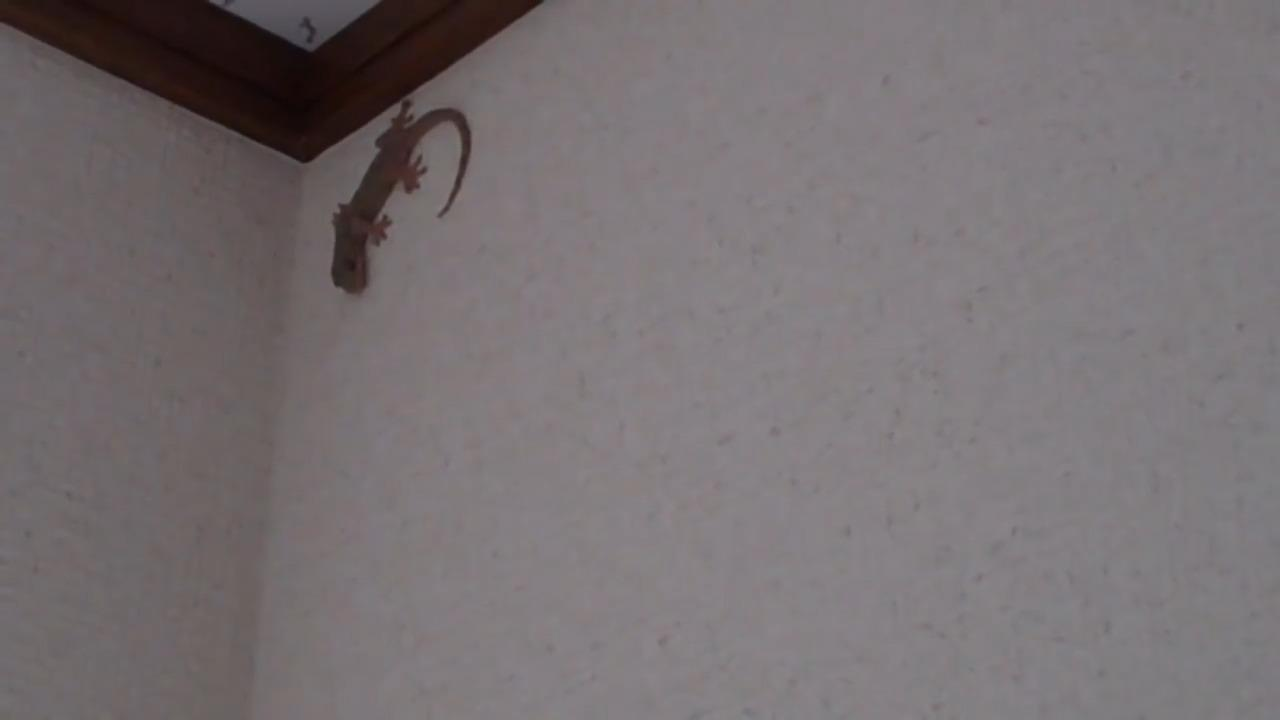lizard: (310, 99, 477, 297)
